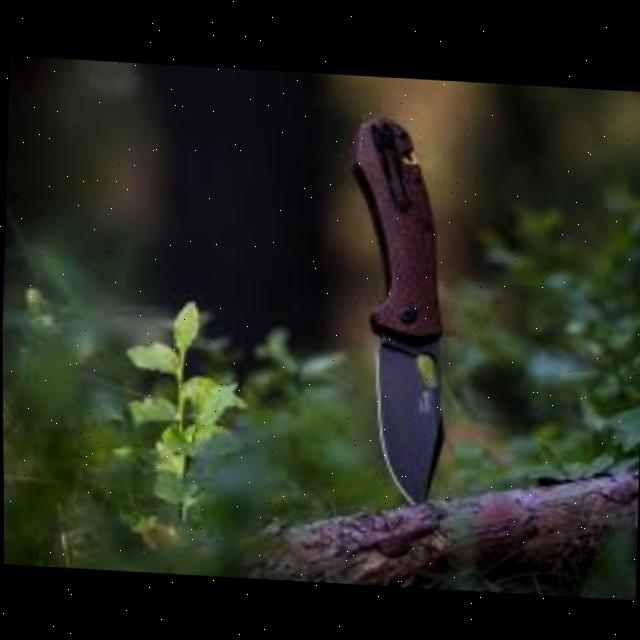Knife: (336, 109, 456, 504)
